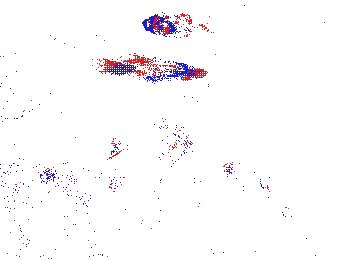X-ray fish: (142, 12, 212, 42), (152, 114, 194, 156), (276, 199, 294, 236)
redtail glassfish: (109, 55, 219, 86), (38, 166, 125, 197), (107, 137, 181, 162), (221, 159, 277, 192)
